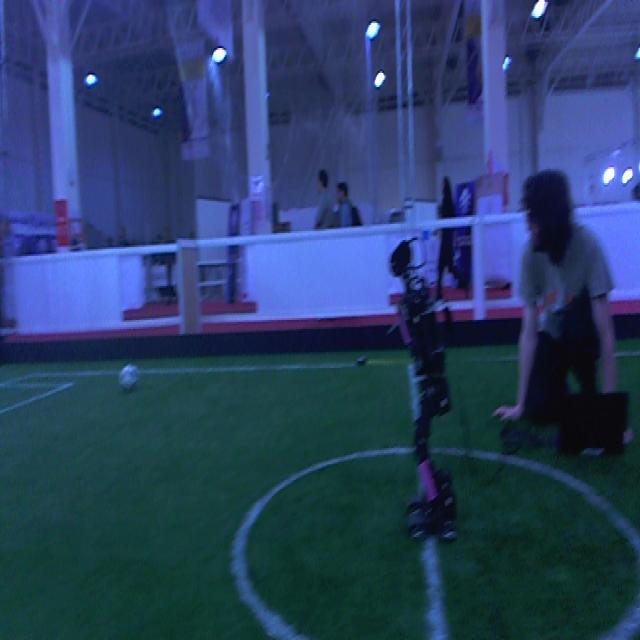ball: (120, 364, 138, 393)
